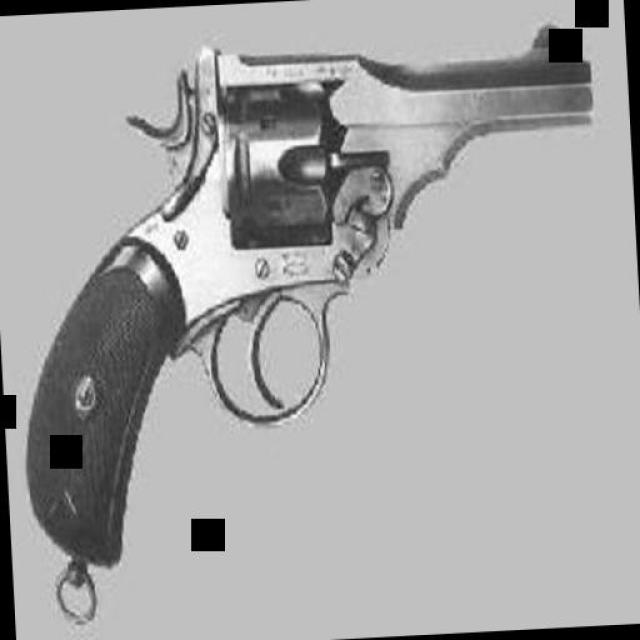gun: (4, 16, 616, 566)
